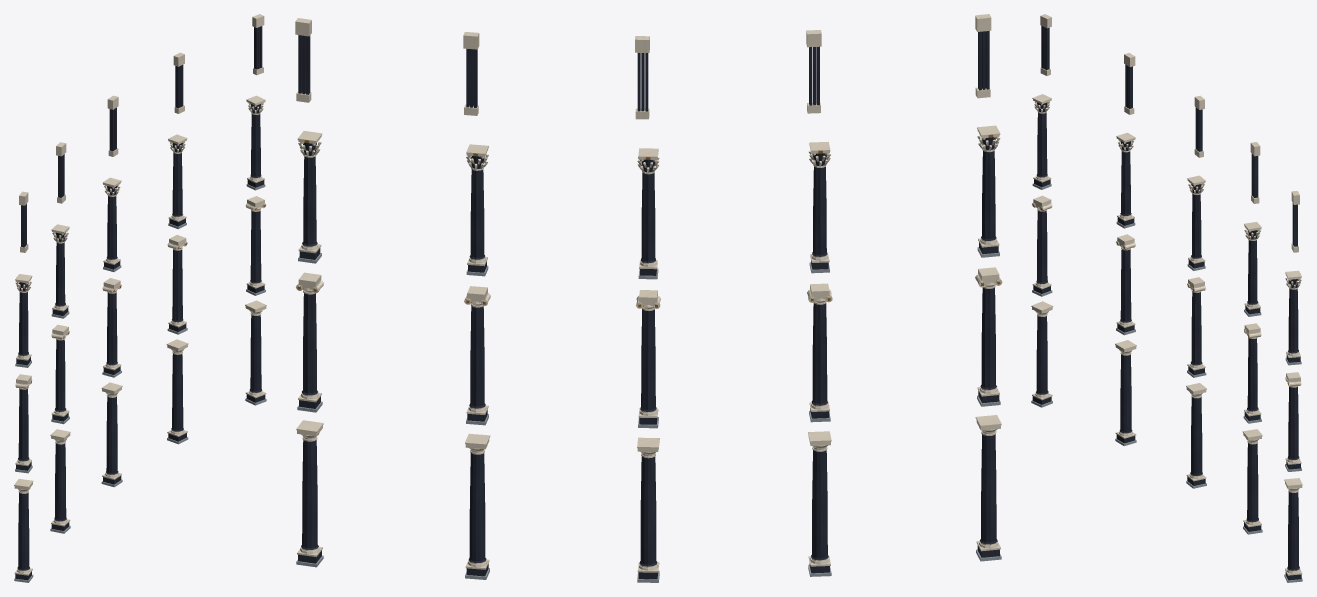
The model's file is COL_ColumnOrders_O6.glb.
3 views of the same model, side by side, from view 1: azimuth 30°, elevation 25°; view 2: azimuth 150°, elevation 25°; view 3: azimuth 270°, elevation 25° (orthographic). The views are drawn at different scales.
Parts seen in each view (by area): view 1: COL_ColumnOrders_O6; view 2: COL_ColumnOrders_O6; view 3: COL_ColumnOrders_O6.
Part boxes in pixels (bbox=[...]): COL_ColumnOrders_O6: bbox=[14, 14, 266, 582]; COL_ColumnOrders_O6: bbox=[295, 14, 1002, 582]; COL_ColumnOrders_O6: bbox=[1031, 14, 1302, 582].
Bounding box in the file's own units: 59.53 × 58.2 × 36.96.
Materials: 4 (4 with a texture image).
